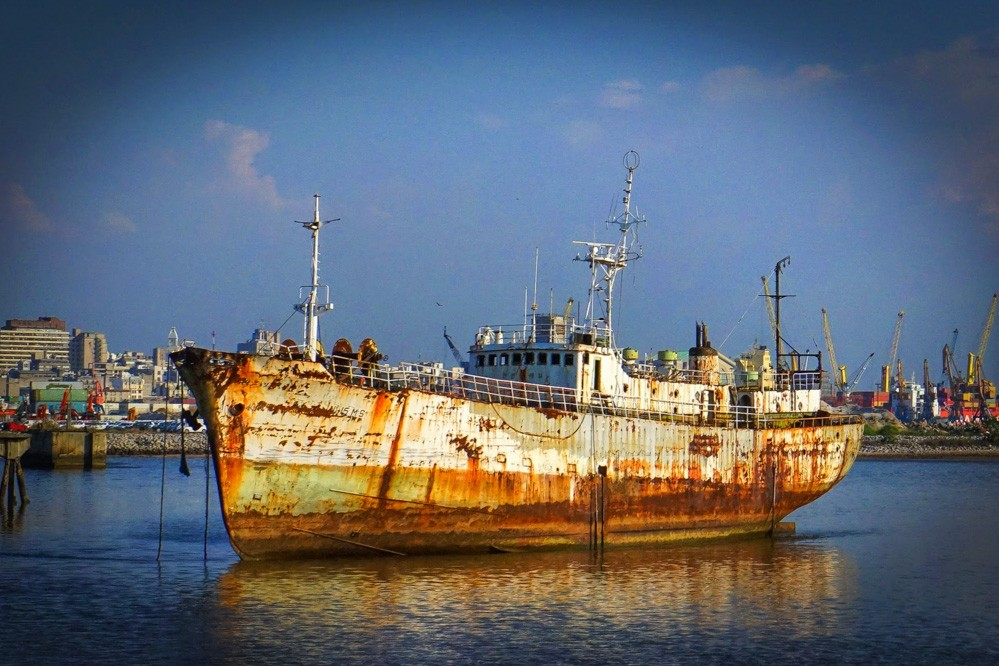rust: (202, 350, 360, 459), (244, 508, 567, 556), (614, 481, 778, 537)
